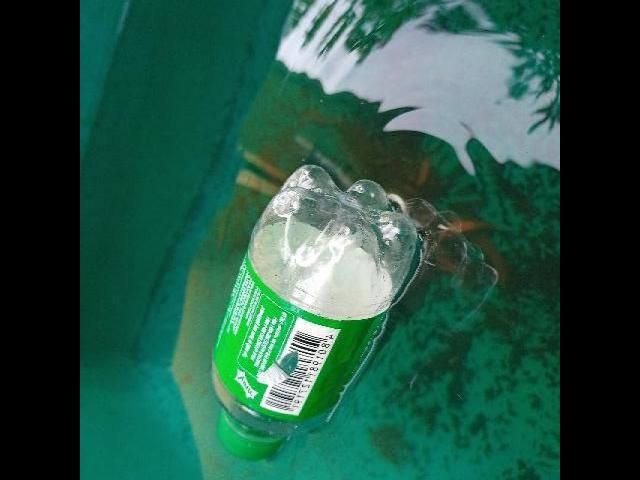Bottle: (202, 157, 427, 474)
